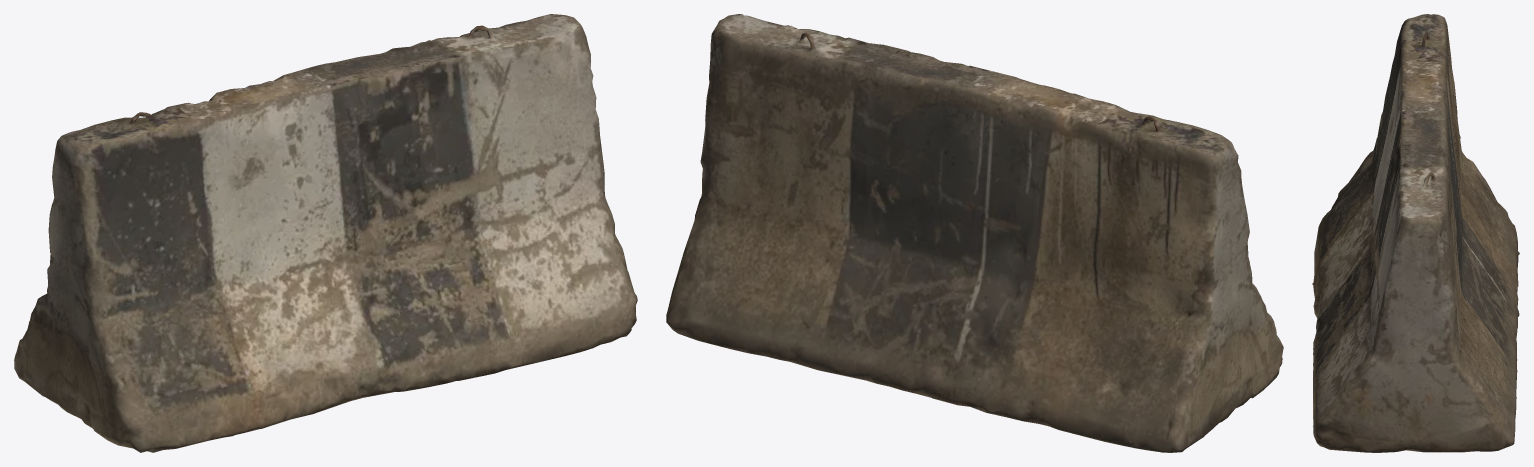
The model's file is concrete_road_barrier.glb.
The picture shows the model from 3 angles, left to right: view 1: azimuth 30°, elevation 25°; view 2: azimuth 150°, elevation 25°; view 3: azimuth 270°, elevation 25°; orthographic projection. The views are drawn at different scales.
Visible parts, largest first — view 1: concrete_road_barrier; view 2: concrete_road_barrier; view 3: concrete_road_barrier.
Boxes of the visible parts, left/top/right/bottom form: concrete_road_barrier: left=14, top=14, right=637, bottom=452; concrete_road_barrier: left=666, top=14, right=1283, bottom=452; concrete_road_barrier: left=1312, top=14, right=1519, bottom=452.
Bounding box in the file's own units: 1.54 × 0.8304 × 0.6387.
Materials: 1 (1 with a texture image).
